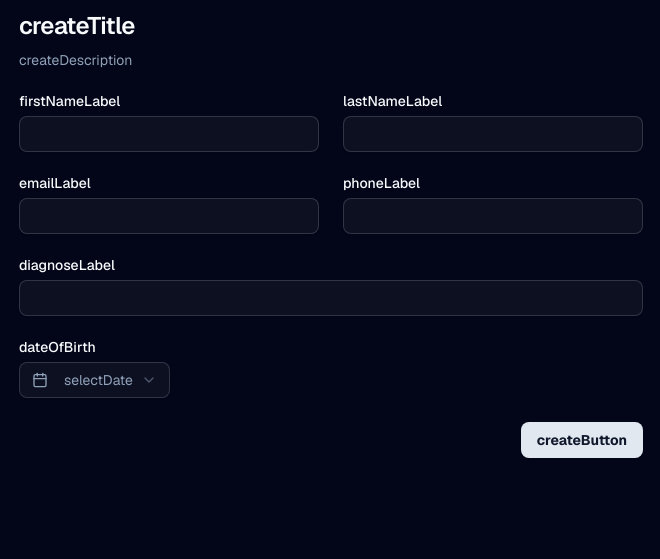
PatientForm › validates required fields
The width and height of the screenshot is (660, 559).
Click the button "createButton" at [582, 440], box x1=521 y1=422 x2=643 y2=458
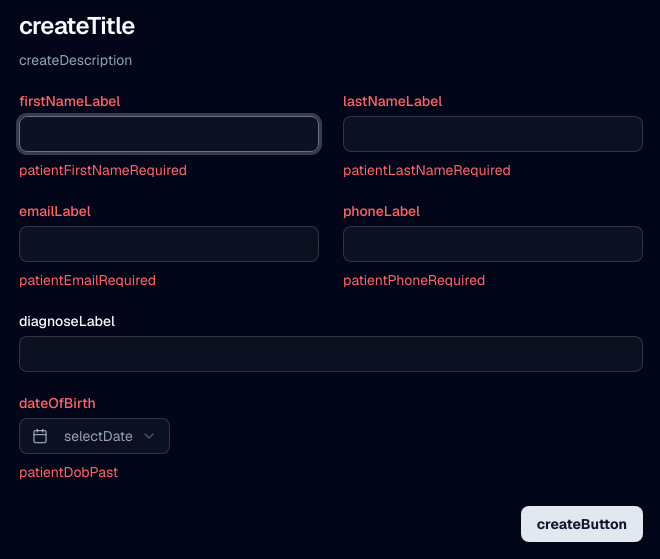
Check: the text "patientFirstNameRequired" is shown, box x1=19 y1=161 x2=187 y2=179
Check: the text "patientLastNameRequired" is shown, box x1=343 y1=161 x2=511 y2=179
Check: the text "patientEmailRequired" is shown, box x1=19 y1=271 x2=156 y2=289
